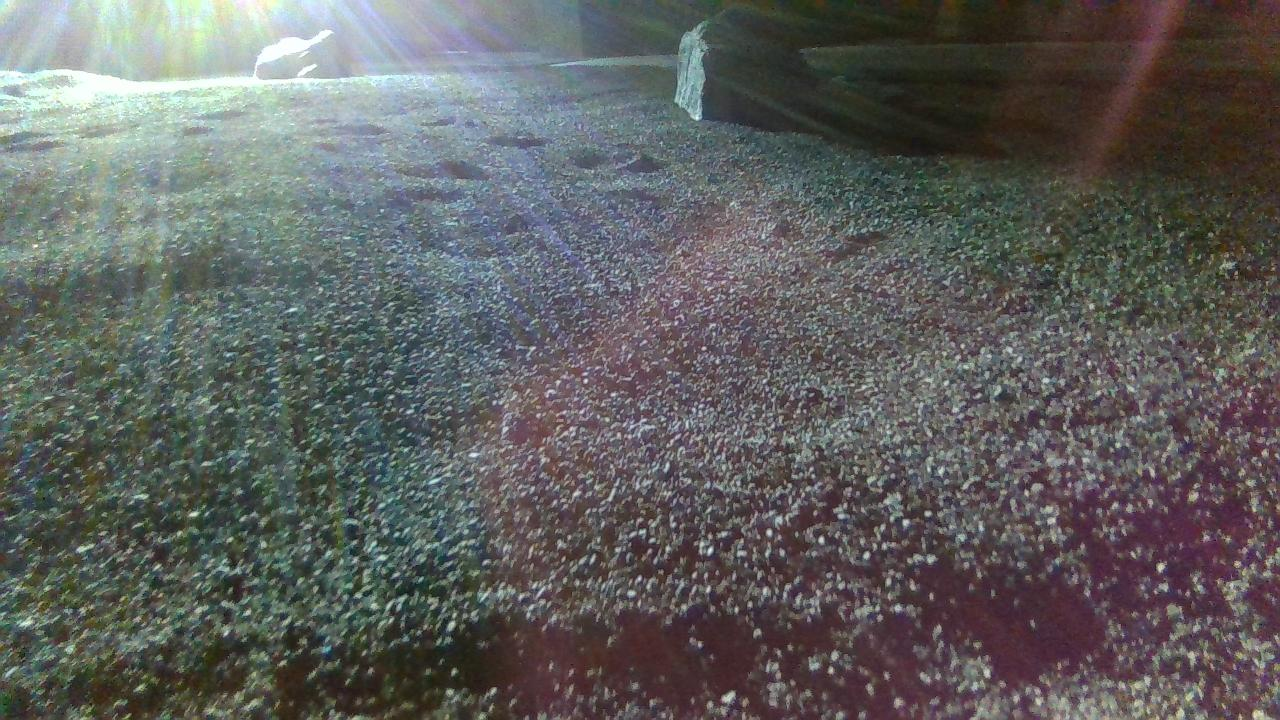rock: (678, 12, 816, 120), (253, 28, 349, 77)
